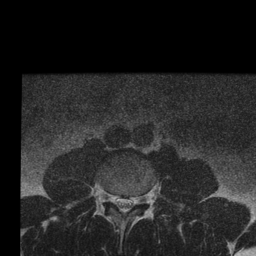CCS_normal: (120, 189, 127, 223)
LFS_normal: (135, 187, 144, 211)
LLS_normal: (127, 188, 135, 216)
RFS_normal: (106, 183, 113, 210)
RLS_normal: (113, 187, 120, 216)
